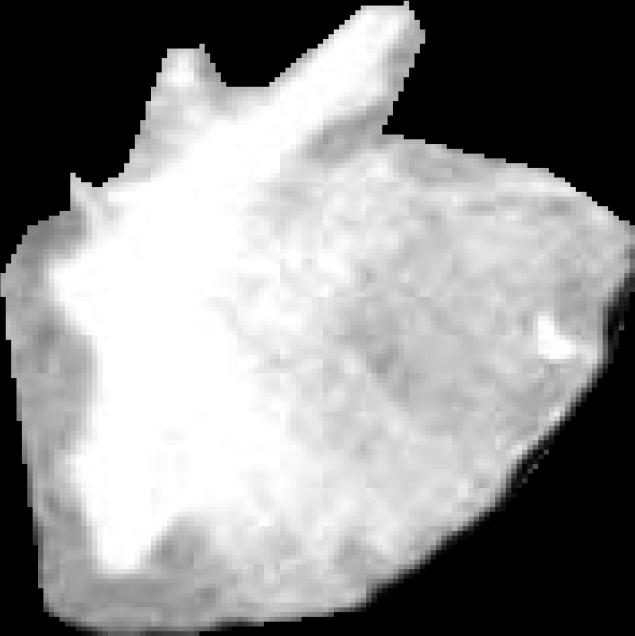tumor_less_chance: (0, 1, 635, 636)
